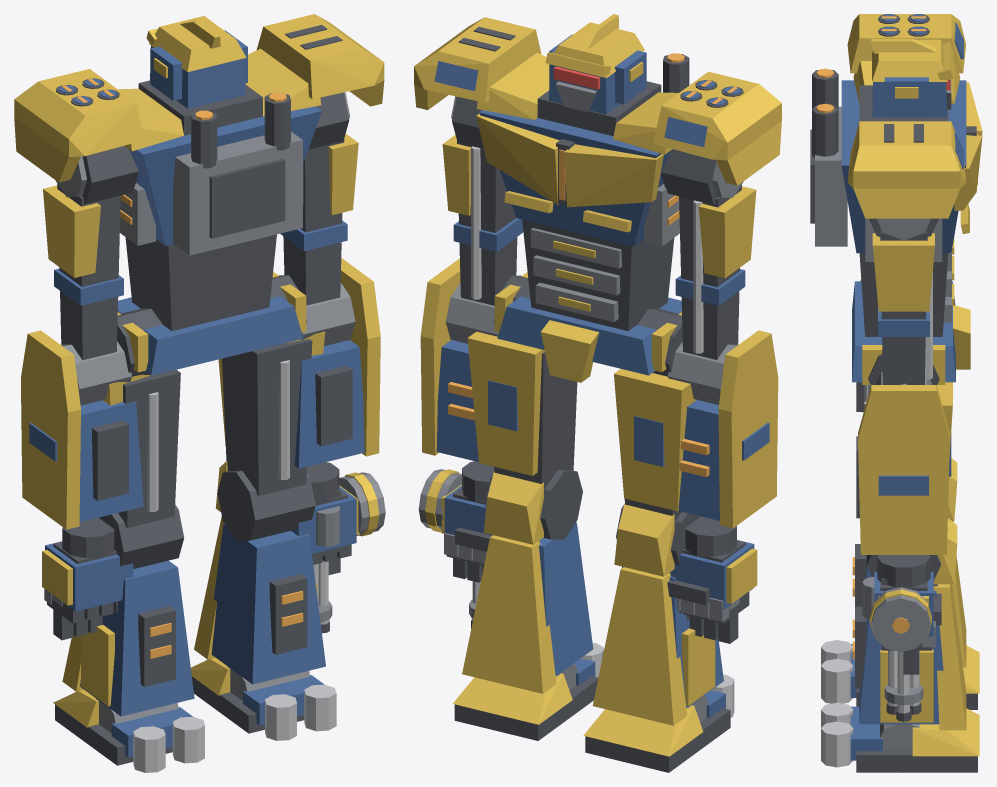
The model's file is titan.glb.
3 renders of one model, left to right at view 1: azimuth 30°, elevation 25°; view 2: azimuth 150°, elevation 25°; view 3: azimuth 270°, elevation 25°, orthographic. The views are drawn at different scales.
Visible parts, largest first — view 1: torso, fore_L, shin_R, shin_L, fore_R, upper_L, thigh_R, upper_R, foot_L, foot_R, head, thigh_L (+6 smaller); view 2: torso, shin_R, fore_L, shin_L, thigh_R, fore_R, upper_L, thigh_L, upper_R, head, foot_L, foot_R (+6 smaller); view 3: torso, fore_R, shin_R, upper_R, foot_R, head, gun_R, foot_L, shin_L, barrels_R, fist_R, thigh_R (+2 smaller).
Boxes of the visible parts, left/top/right/bottom form: torso: left=14, top=14, right=384, bottom=376; fore_L: left=21, top=330, right=143, bottom=558; shin_R: left=194, top=461, right=325, bottom=684; shin_L: left=62, top=505, right=194, bottom=716; fore_R: left=294, top=258, right=380, bottom=504; upper_L: left=43, top=156, right=123, bottom=360; thigh_R: left=218, top=331, right=325, bottom=495; upper_R: left=280, top=92, right=358, bottom=305; foot_L: left=53, top=690, right=204, bottom=772; foot_R: left=191, top=657, right=336, bottom=740; head: left=146, top=16, right=247, bottom=108; thigh_L: left=103, top=369, right=180, bottom=527; torso: left=414, top=17, right=781, bottom=382; shin_R: left=462, top=470, right=593, bottom=693; fore_L: left=668, top=330, right=778, bottom=557; shin_L: left=592, top=503, right=723, bottom=725; thigh_R: left=467, top=331, right=577, bottom=490; fore_R: left=420, top=258, right=498, bottom=503; upper_L: left=675, top=161, right=756, bottom=359; thigh_L: left=614, top=369, right=696, bottom=522; upper_R: left=442, top=96, right=523, bottom=305; head: left=545, top=14, right=646, bottom=114; foot_L: left=583, top=674, right=734, bottom=772; foot_R: left=453, top=643, right=603, bottom=740; torso: left=810, top=14, right=982, bottom=385; fore_R: left=856, top=372, right=949, bottom=587; shin_R: left=852, top=518, right=966, bottom=730; upper_R: left=872, top=218, right=934, bottom=384; foot_R: left=821, top=702, right=979, bottom=772; head: left=871, top=39, right=953, bottom=117; gun_R: left=862, top=577, right=931, bottom=651; foot_L: left=821, top=640, right=979, bottom=709; shin_L: left=852, top=458, right=966, bottom=667; barrels_R: left=884, top=650, right=923, bottom=721; fist_R: left=874, top=572, right=933, bottom=636; thigh_R: left=864, top=382, right=952, bottom=476.
Bounding box in the file's own units: 25.2 × 51.05 × 11.6.
